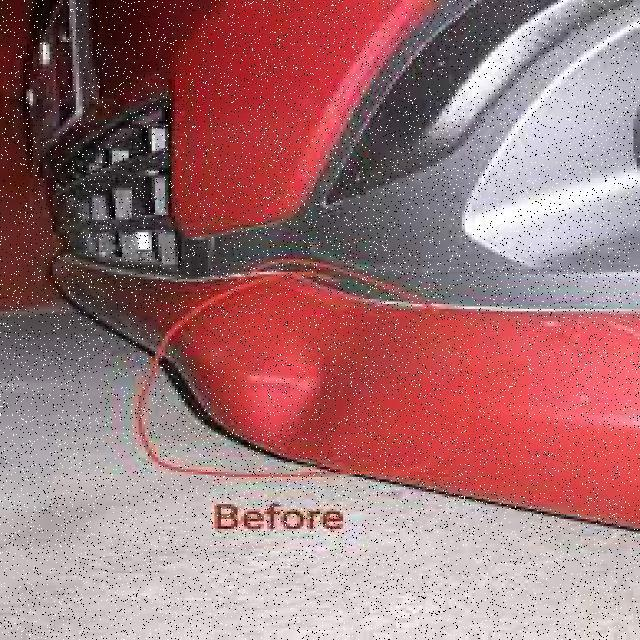front-bumper-dent: (10, 215, 637, 529)
